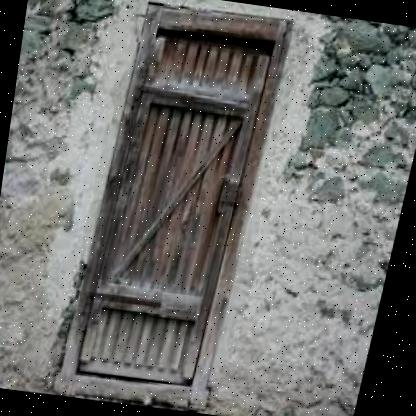door: (74, 0, 279, 396)
